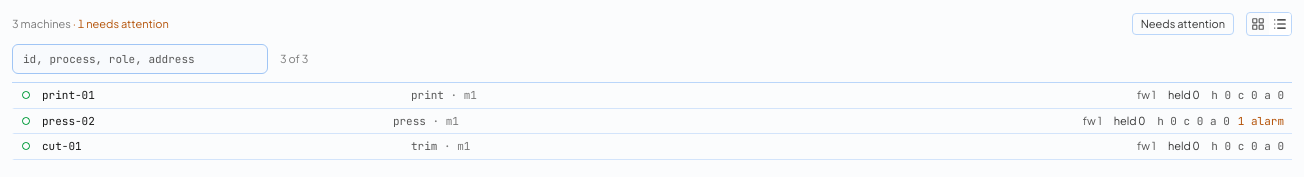
it: MachineViews › rows: the search narrows by id, process or address
Type "trim" into the search field named "Find a machine" at (140,59), box [12,44,268,74]
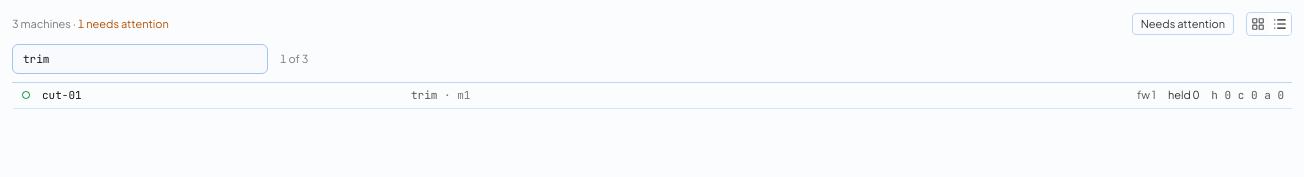
Expected: the text "cut-01" is shown, [42,88,82,102]
Expected: the button "print-01" is gone
Expected: the text "1 of 3" is shown, [280,51,308,67]
